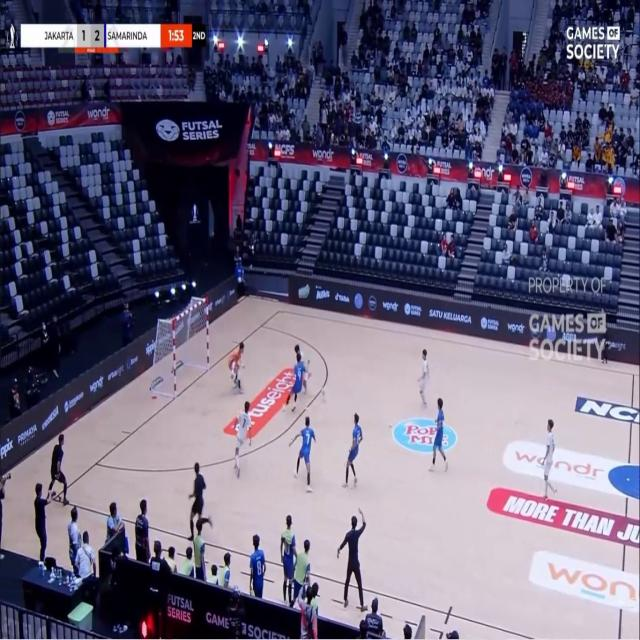official: (338, 510, 367, 611), (135, 500, 150, 563)
referee: (188, 463, 212, 541), (49, 434, 69, 505)
